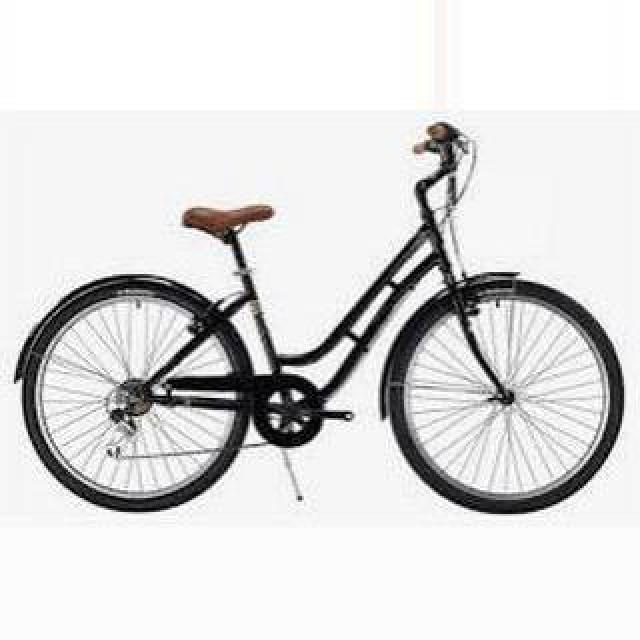Person: (6, 122, 628, 520)
